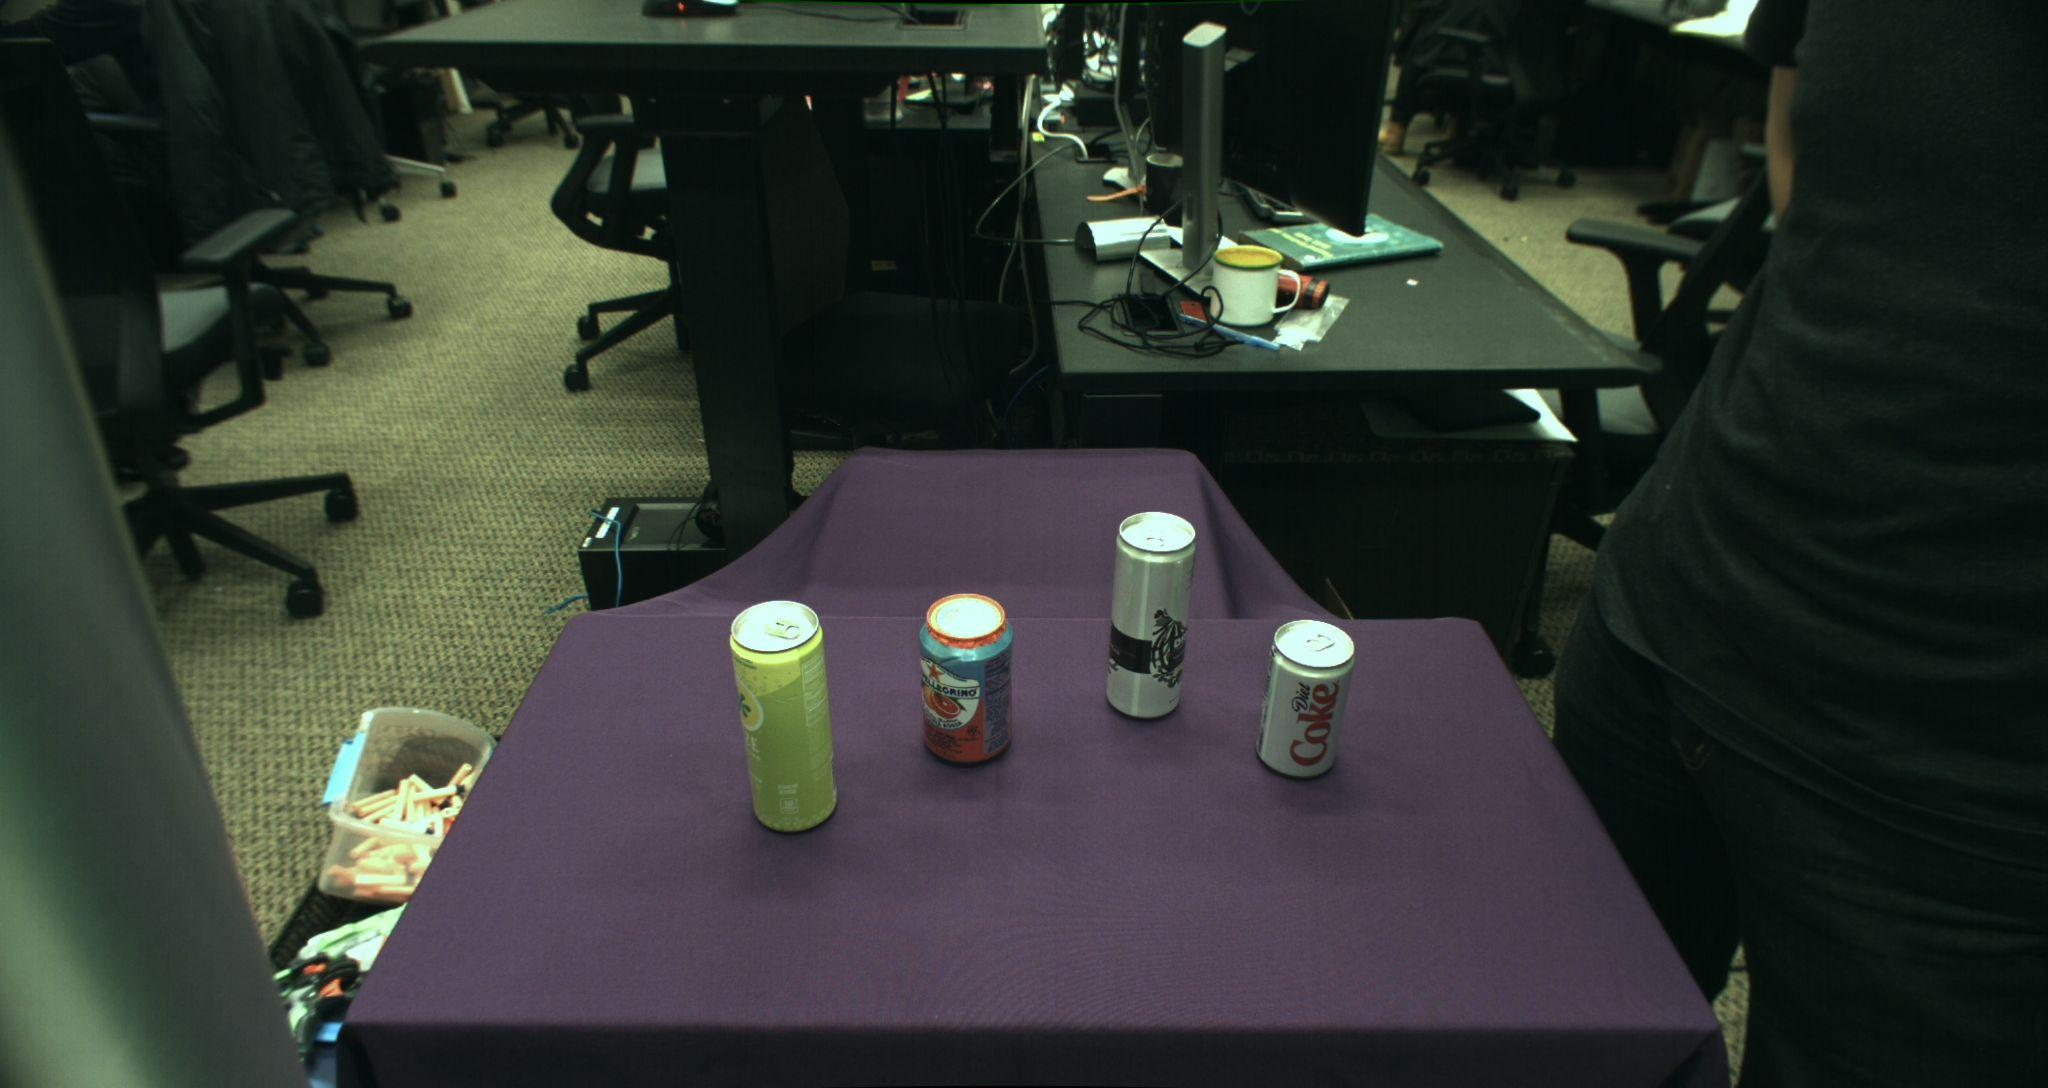can_diet_coke_small: (1256, 616, 1354, 778)
can_dry_sparkling_vanilla_bean: (1107, 509, 1195, 719)
can_izze_fusions_lemon_lime: (727, 600, 838, 833)
can_sanpellegrino_blood_orange: (917, 592, 1013, 764)
